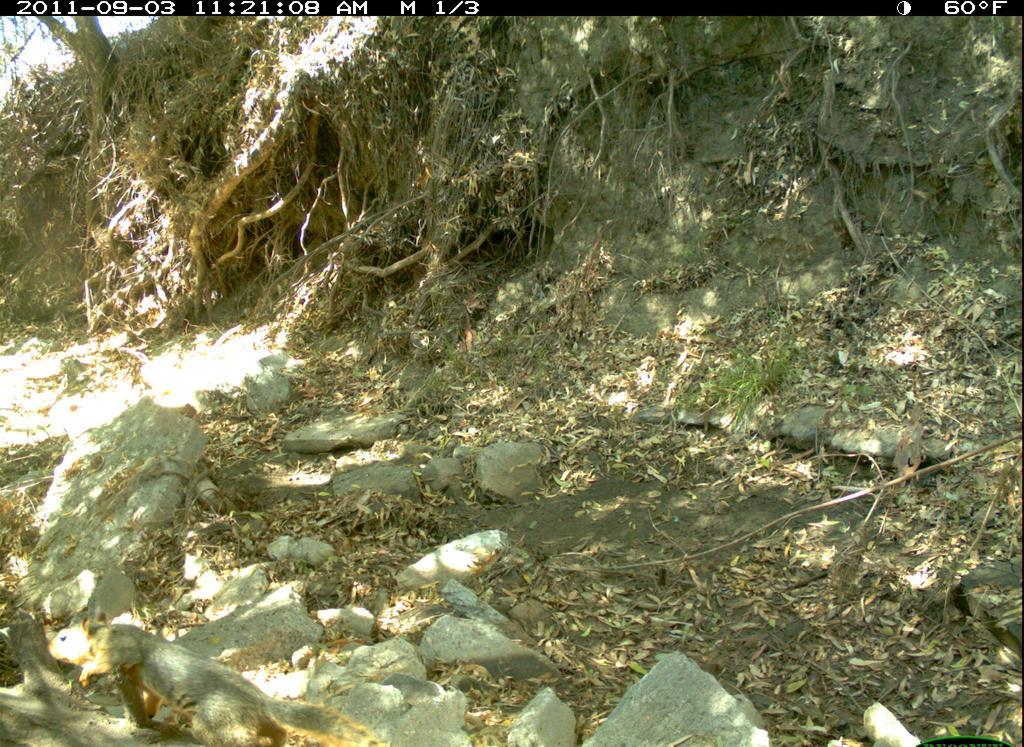squirrel: (40, 606, 400, 747)
